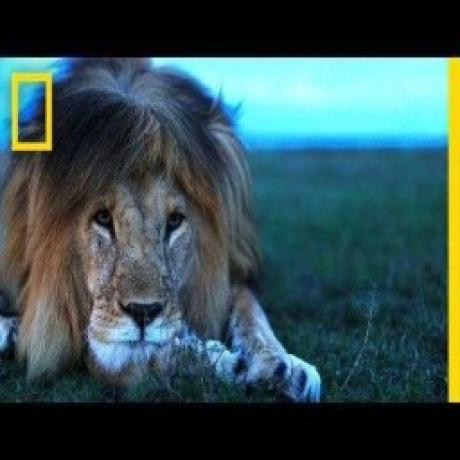Lion: (0, 54, 322, 399)
